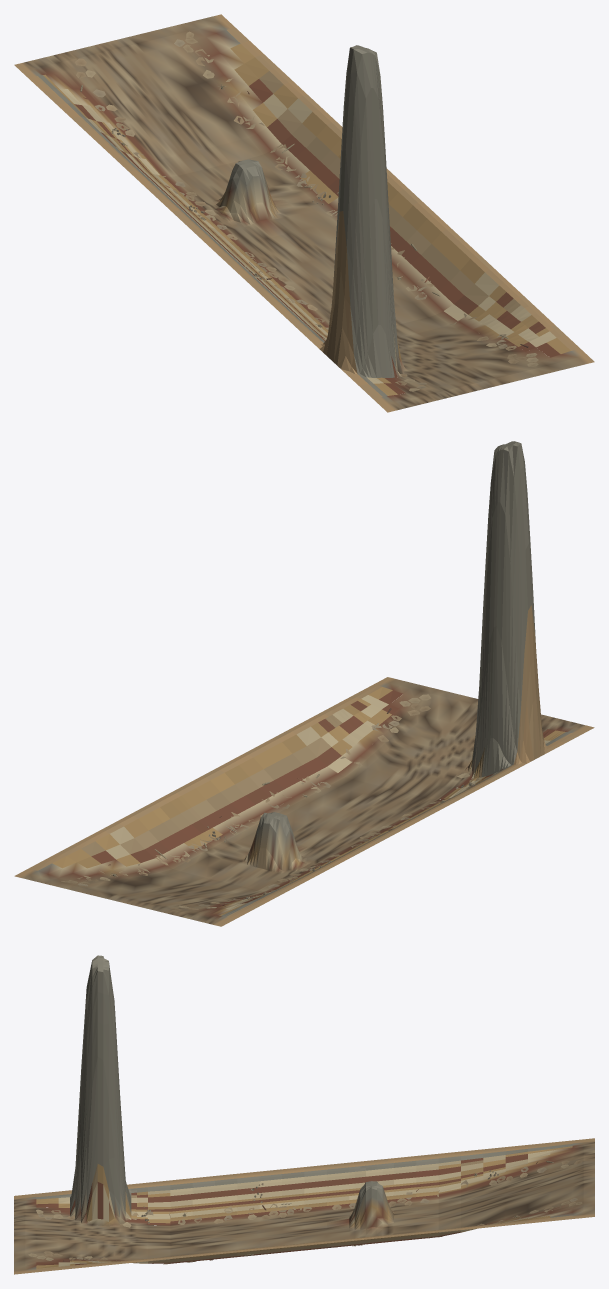
File: liner_meander_bend.glb
3 views of the same model, one above another, from view 1: azimuth 30°, elevation 25°; view 2: azimuth 150°, elevation 25°; view 3: azimuth 270°, elevation 25° (orthographic). The views are drawn at different scales.
Parts seen in each view (by area): view 1: liner_meander_bend_body; view 2: liner_meander_bend_body; view 3: liner_meander_bend_body.
Boxes of the visible parts, box(x1,y1,x2,y2) form: liner_meander_bend_body: box(14, 14, 594, 412); liner_meander_bend_body: box(14, 441, 594, 926); liner_meander_bend_body: box(14, 955, 594, 1274).
Bounding box in the file's own units: 66 × 101 × 206.
